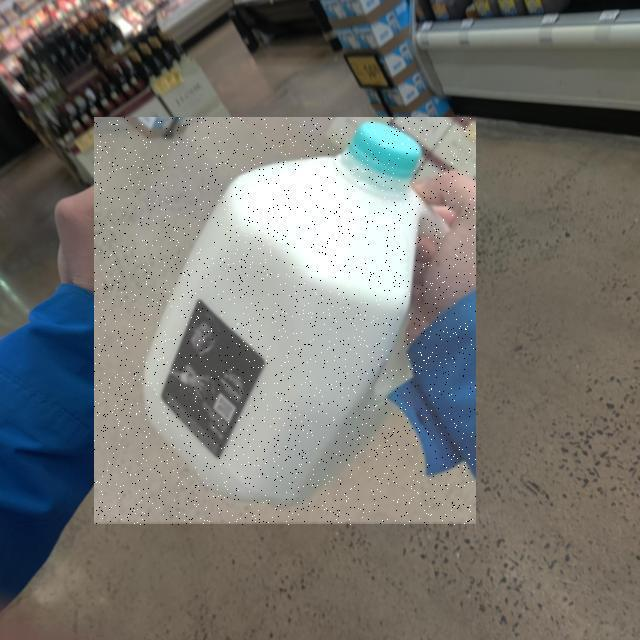Milk: (94, 118, 476, 526)
